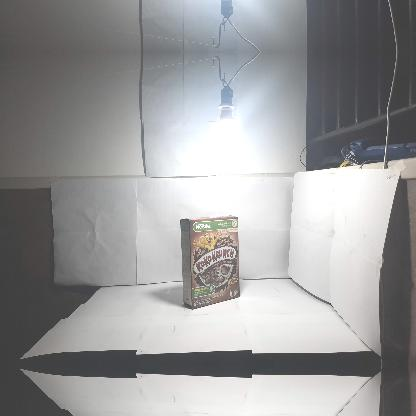Koko-Krunch: (180, 216, 240, 308)
